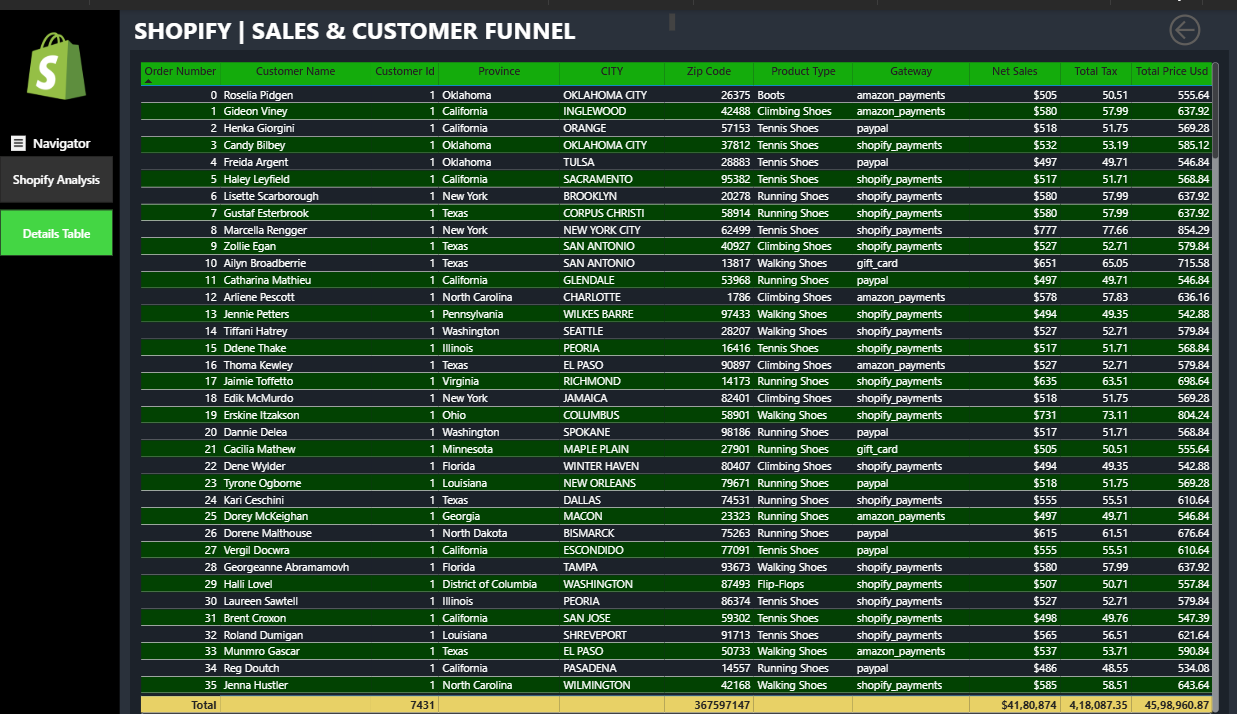

This screenshot's page, from the dashboard's own definition file:
{"tool":"powerbi","page":{"name":"Details Table","canvas":[1700,1000],"ordinal":1},"visuals":[{"type":"shape","box":[0,0,170,999],"z":0},{"type":"textbox","box":[184,0,748,54],"z":1000},{"type":"shape","box":[184.2,54.4,1498.2,928.1],"z":2000},{"type":"image","box":[29.8,26.3,107,101.8],"z":3000},{"type":"tableEx","fields":{"Values":["shopify_sales.Order Number","shopify_sales.Customer Name","CountNonNull(shopify_sales.Customer Id)","shopify_sales.Billing Address Province","shopify_sales.CITY","Sum(shopify_sales.Billing Address Zip)","shopify_sales.Product Type","shopify_sales.Gateway","shopify_sales.Net Sales","Sum(shopify_sales.Total Tax)","Sum(shopify_sales.Total Price Usd)"]},"box":[193,66.7,1480.7,905.3],"z":4000},{"type":"actionButton","box":[1594.7,0,59.6,54.4],"z":5000},{"type":"pageNavigator","box":[7,200,154.4,136.8],"z":6000},{"type":"card","fields":{"Values":["shopify_sales.Navigator"]},"box":[33.3,163.2,114,40.4],"z":7000},{"type":"image","box":[17.5,157.9,29.8,45.6],"z":8000}]}

Visuals, with their boxes on the page's 1700x1000 design canvas (x1, y1, x2, y2). These are canvas units, not pixel positions in the 1237x714 screenshot, which may show the page scaled, cropped or inside an application window:
shape: [left=0, top=0, right=170, bottom=999]
textbox: [left=184, top=0, right=932, bottom=54]
shape: [left=184, top=54, right=1682, bottom=982]
image: [left=30, top=26, right=137, bottom=128]
tableEx - shopify_sales.Order Number x shopify_sales.Customer Name: [left=193, top=67, right=1674, bottom=972]
actionButton: [left=1595, top=0, right=1654, bottom=54]
pageNavigator: [left=7, top=200, right=161, bottom=337]
card - shopify_sales.Navigator: [left=33, top=163, right=147, bottom=204]
image: [left=18, top=158, right=47, bottom=204]
